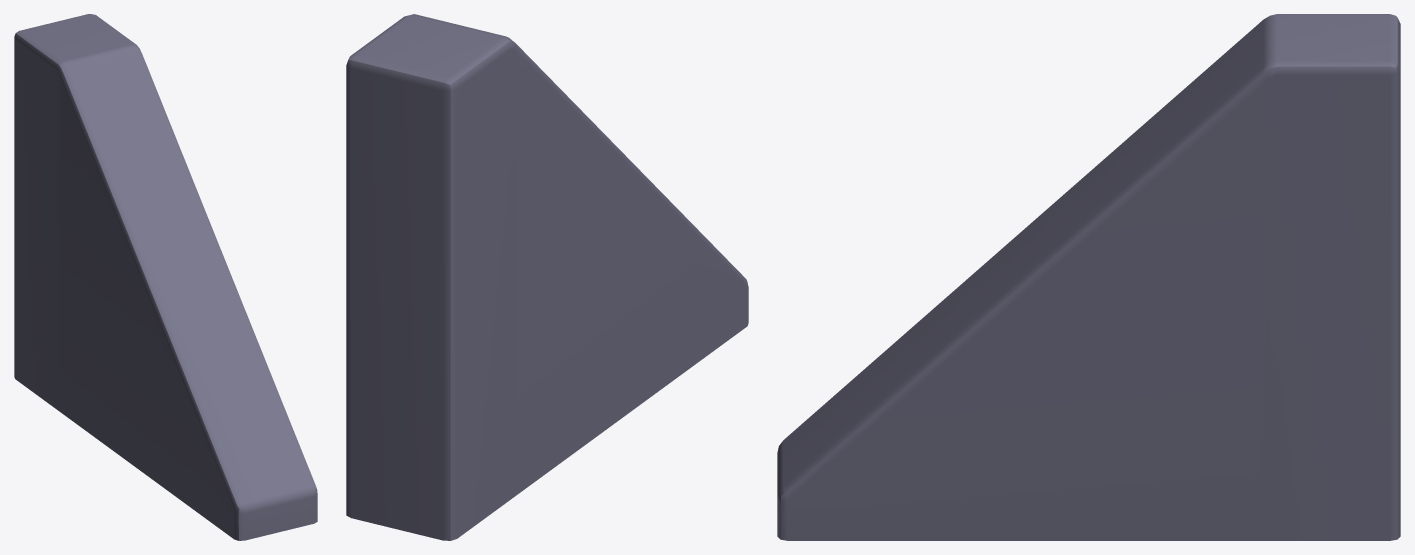
Rendered from SM_StairSide.fbx.
3 views of the same model, side by side, from view 1: azimuth 30°, elevation 25°; view 2: azimuth 150°, elevation 25°; view 3: azimuth 270°, elevation 25° (orthographic). The views are drawn at different scales.
Visible parts, largest first — view 1: pCube9; view 2: pCube9; view 3: pCube9.
Boxes of the visible parts, <box> form: pCube9: <box>14,14,317,540</box>; pCube9: <box>346,14,748,540</box>; pCube9: <box>777,14,1400,540</box>.
Bounding box in the file's own units: 80 × 320 × 380.
